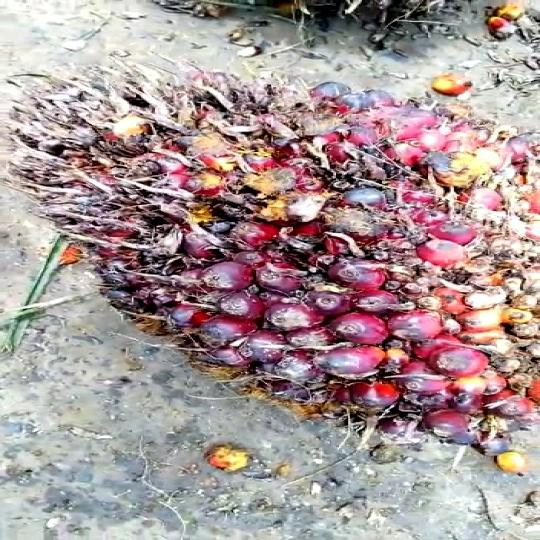masak: (1, 48, 540, 465)
